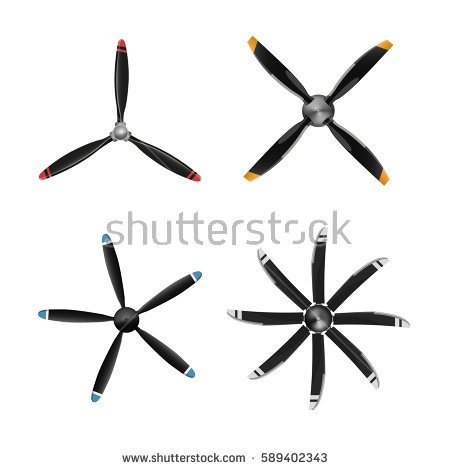Propeller: (235, 234, 411, 406), (235, 35, 410, 196), (50, 229, 214, 400), (59, 51, 203, 193)
